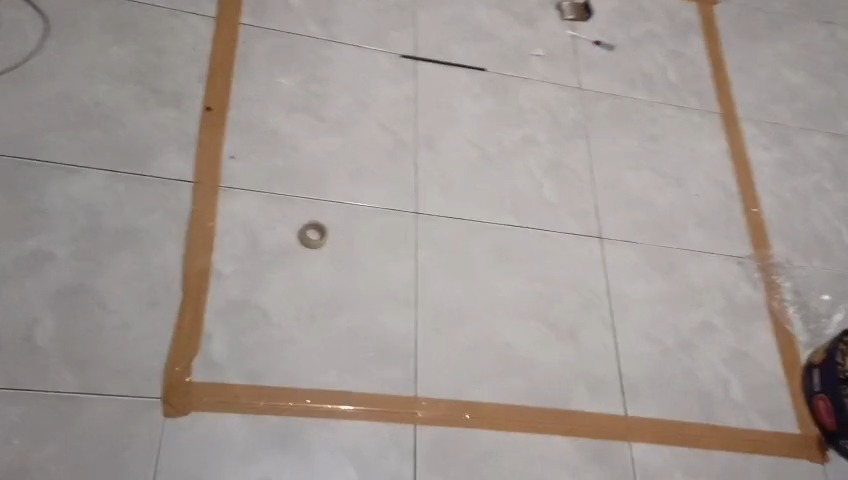floor marking: (162, 0, 826, 463)
